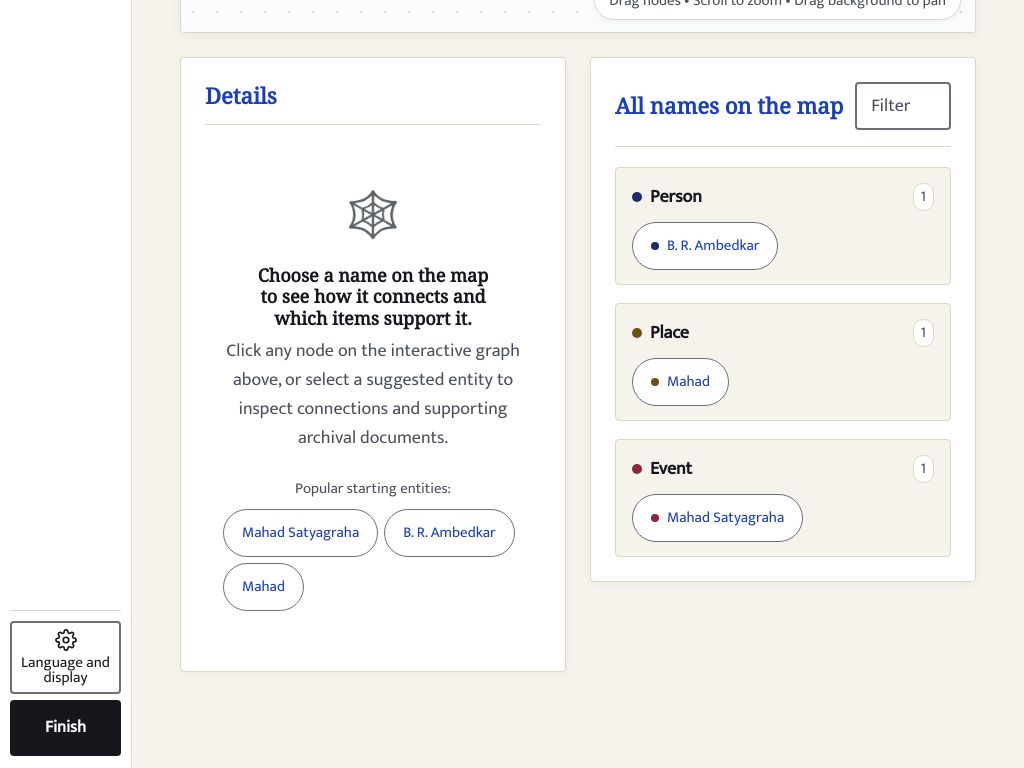
Test: connections panel › shows the hint only with nothing selected and the name once after selecting
(page scrolled)
Expected: the element with class "map-inspector-panel" shows "Choose a name on the map", [258, 263, 488, 330]
Click the button "B. R. Ambedkar" below "Popular starting entities:" at (450, 533), box [384, 509, 515, 557]
(page scrolled)
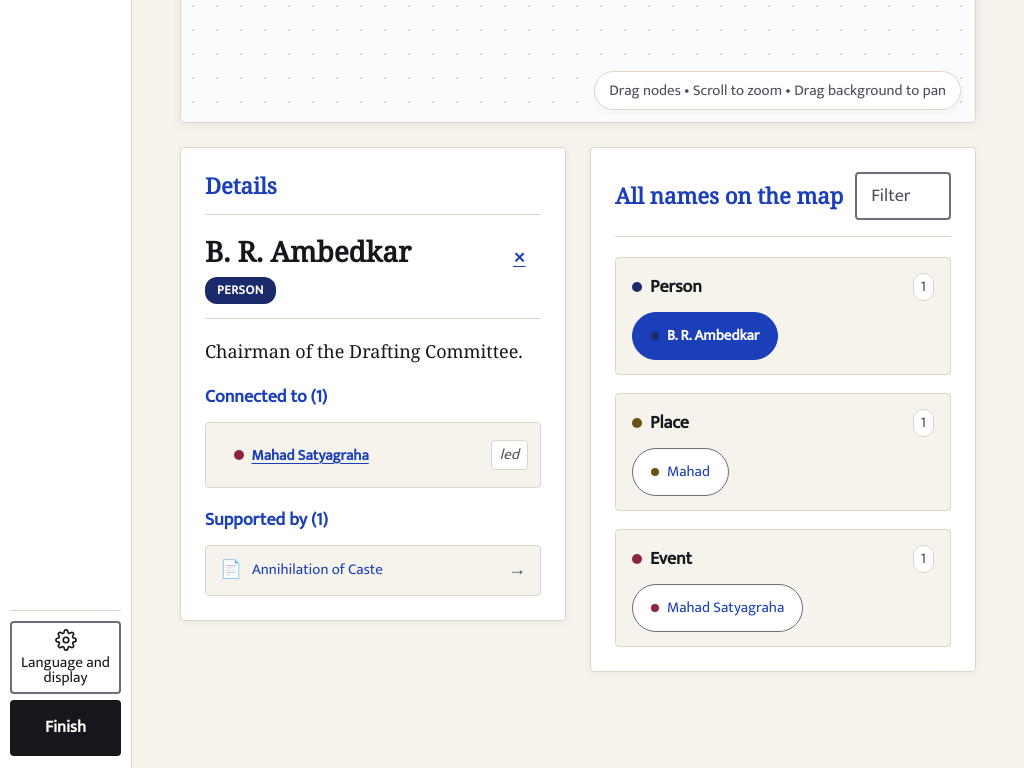
Result: the heading with class "map-inspector-panel" no longer shows "Choose a name on the map"
Result: the text with class "map-inspector-panel" no longer shows "Click any node"
